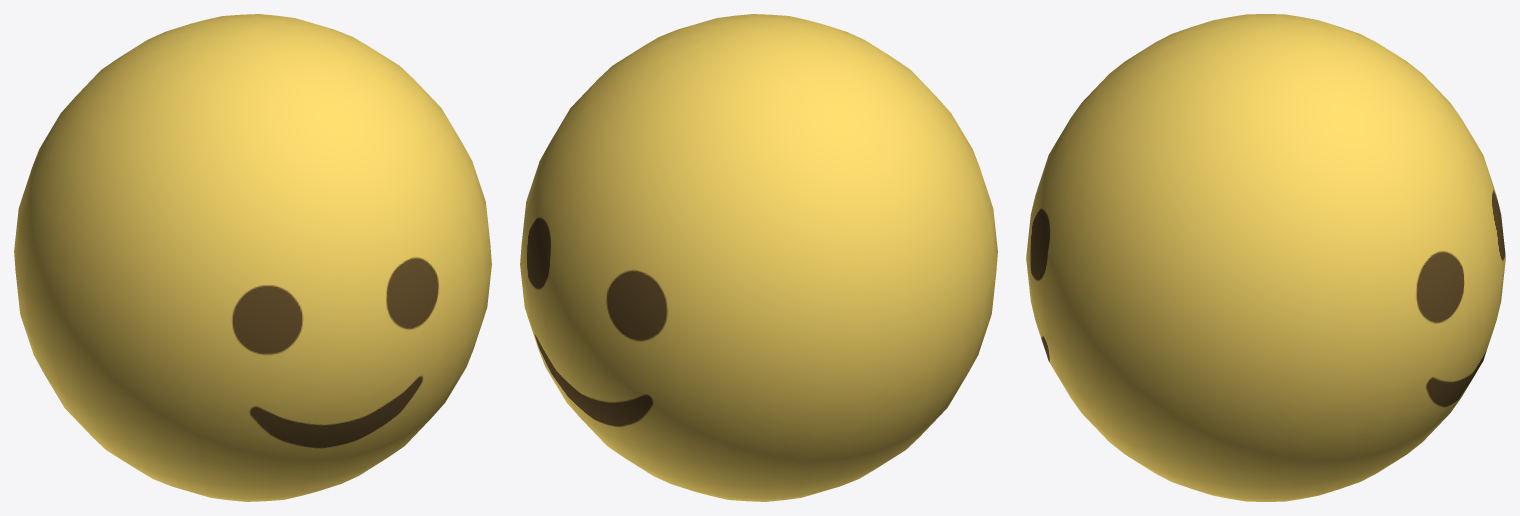
Rendered from balltheme01_01_LOD0.dae.
The picture shows the model from 3 angles, left to right: view 1: azimuth 30°, elevation 25°; view 2: azimuth 150°, elevation 25°; view 3: azimuth 270°, elevation 25°; orthographic projection.
Parts seen in each view (by area): view 1: balltheme01_01_LOD0; view 2: balltheme01_01_LOD0; view 3: balltheme01_01_LOD0.
Part boxes in pixels (left/top/right/bottom): balltheme01_01_LOD0: left=14, top=14, right=491, bottom=501; balltheme01_01_LOD0: left=520, top=14, right=997, bottom=501; balltheme01_01_LOD0: left=1026, top=14, right=1505, bottom=501.
Size of the model in its own units: 5.5 by 5.67 by 5.5.
